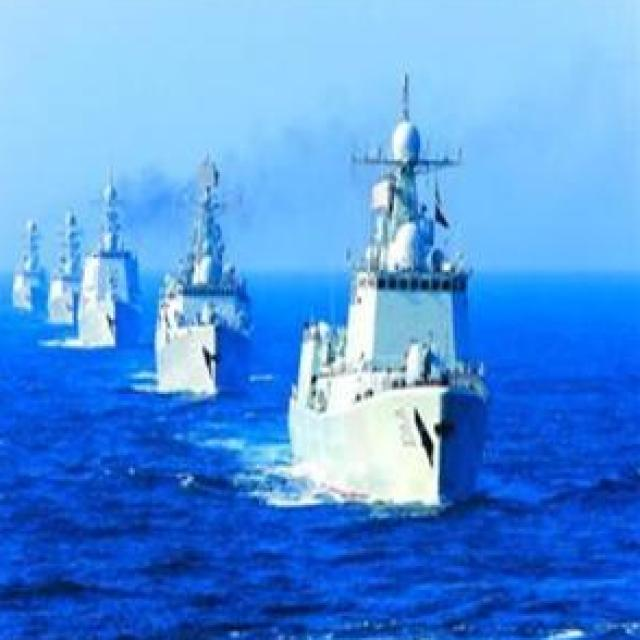navalvessels: (291, 87, 464, 557), (152, 158, 266, 398), (74, 172, 142, 360), (46, 205, 92, 333), (9, 208, 55, 312)
